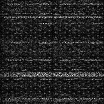lte: (1, 71, 104, 76), (1, 16, 104, 18), (1, 59, 104, 61)
